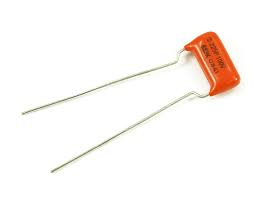ceramic capacitor: (170, 22, 245, 123)
